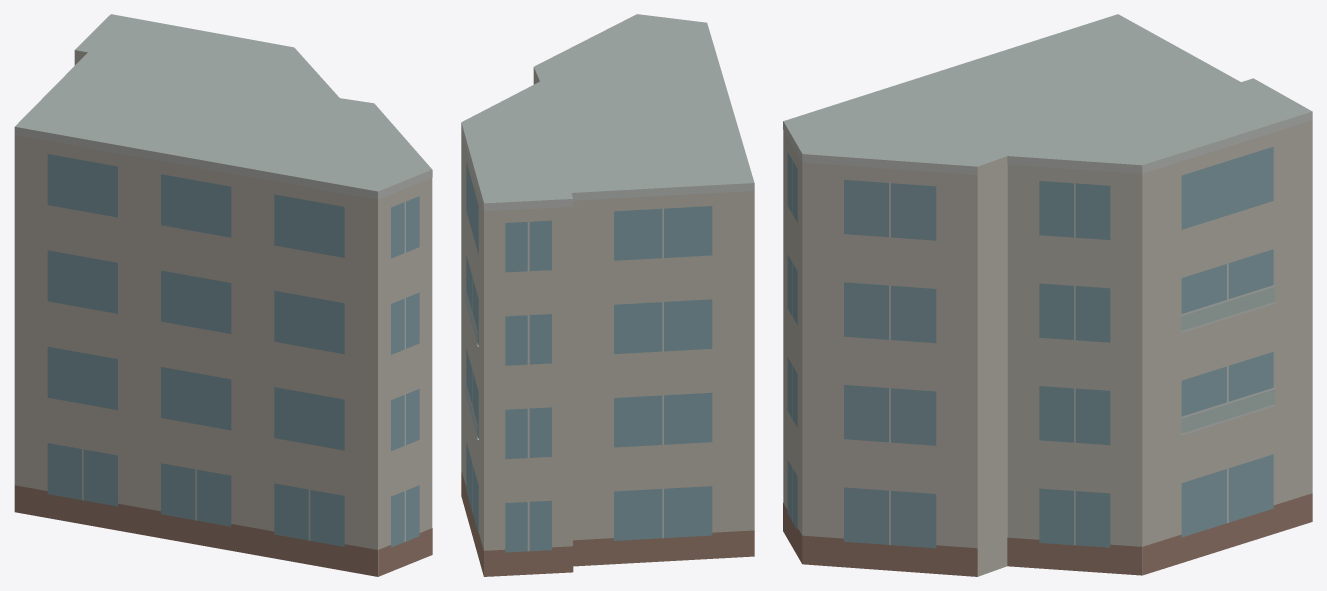
The model's file is survey-upis-32706238.glb.
3 views of the same model, side by side, from view 1: azimuth 30°, elevation 25°; view 2: azimuth 150°, elevation 25°; view 3: azimuth 270°, elevation 25° (orthographic). The views are drawn at different scales.
Visible parts, largest first — view 1: survey-upis-32706238.tmp; view 2: survey-upis-32706238.tmp; view 3: survey-upis-32706238.tmp.
Part boxes in pixels (x1,y1,x2,y2): survey-upis-32706238.tmp: (14, 14, 432, 576); survey-upis-32706238.tmp: (461, 14, 754, 576); survey-upis-32706238.tmp: (783, 14, 1312, 576).
Bounding box in the file's own units: 9.35 × 11.7 × 13.69.
